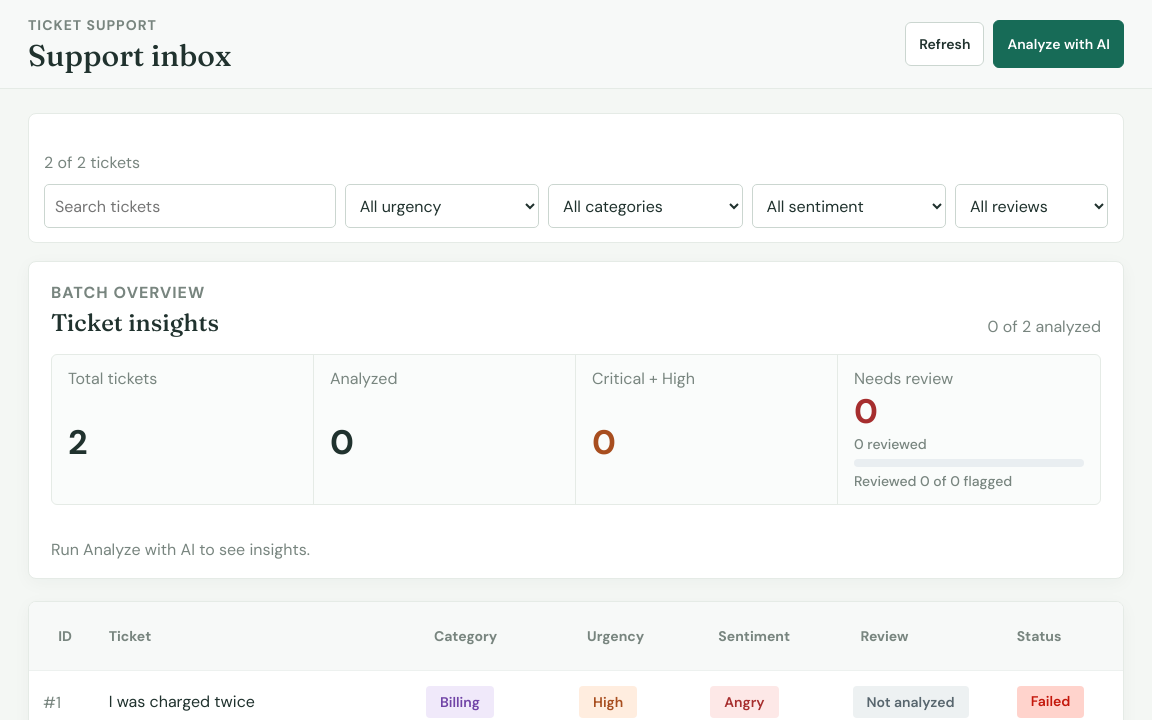
Test: App › labels failed tickets and shows their error in details
The image size is (1152, 720).
Expected: the text "Failed" is shown, [1017, 686, 1084, 718]
Click the text "I was charged twice". click: (182, 701)
box: [109, 691, 255, 712]
(page scrolled)
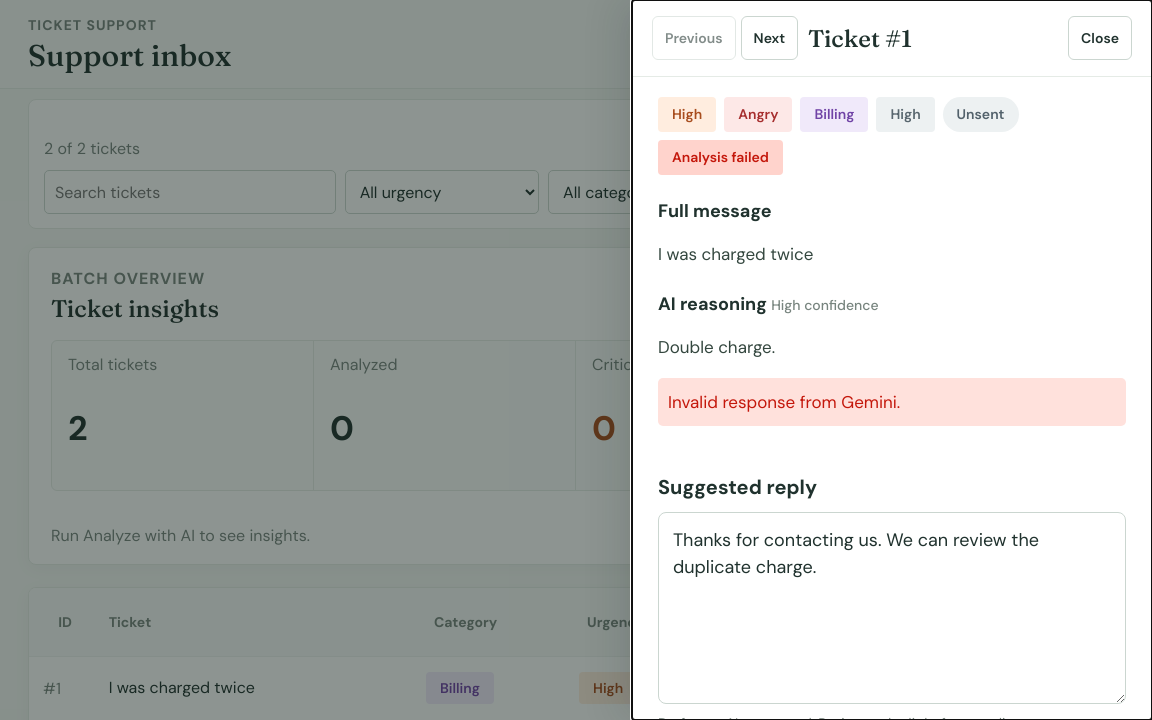
Expected: the text "Invalid response from Gemini." is shown, [658, 378, 1126, 426]
